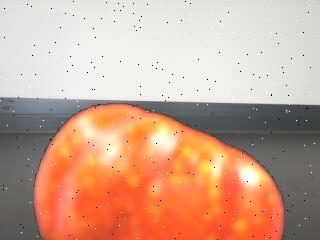Pumpkin: (33, 104, 284, 240)
